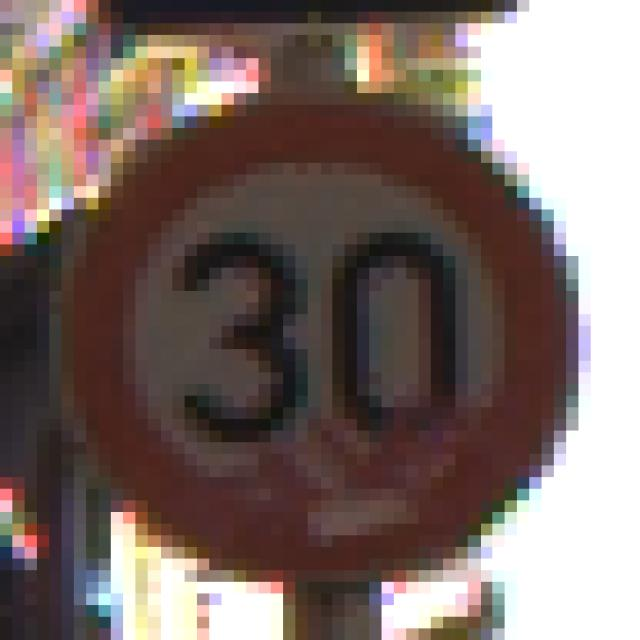Speed Limit -30-: (55, 64, 572, 576)
